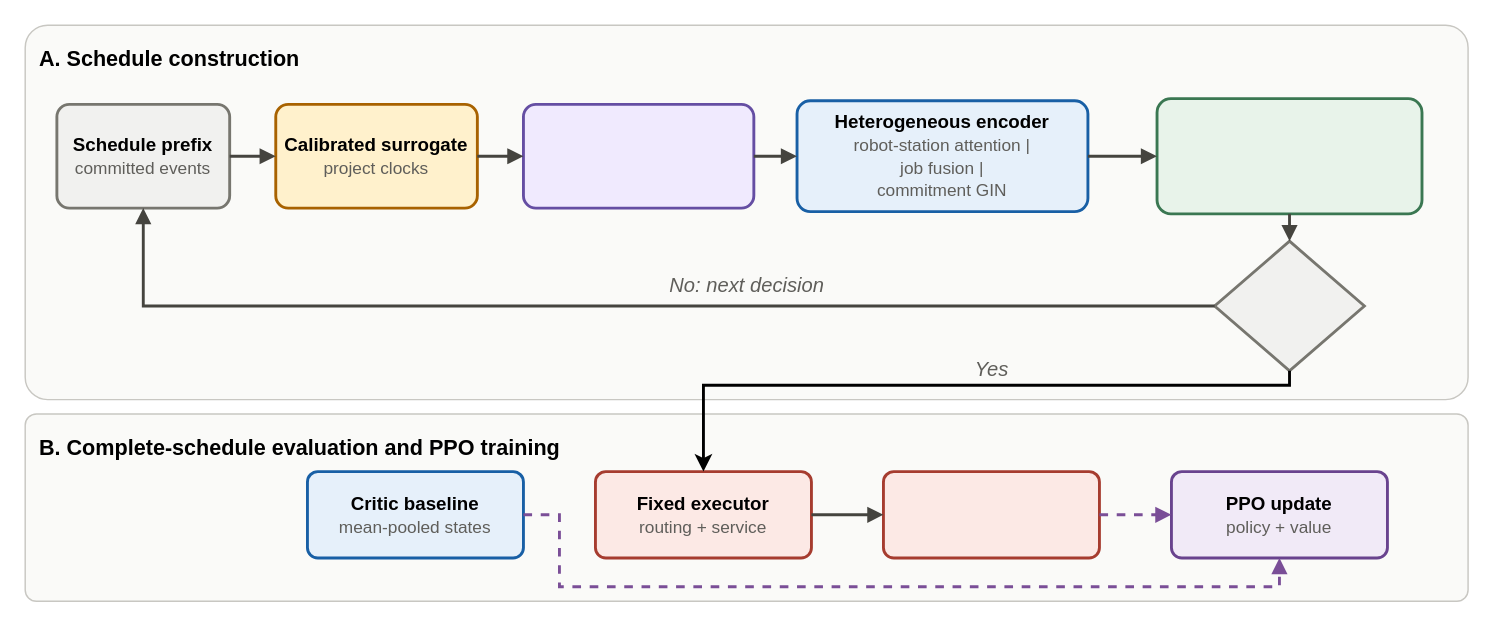
The diagram is 1493 pixels wide and 626 high, and some of its shapes have lost their labels. The shapes that lost their labels are listed below. From the top down, each one's box as (x1, y1, x2, y2) in pixels, then its label:
(521, 102, 755, 209): Projected state AMR | station | job | action
(1155, 96, 1423, 215): Joint actor + mask select feasible (operation, AMR, job)
(1212, 239, 1365, 372): Schedule complete?
(881, 469, 1100, 559): Terminal return negative score
